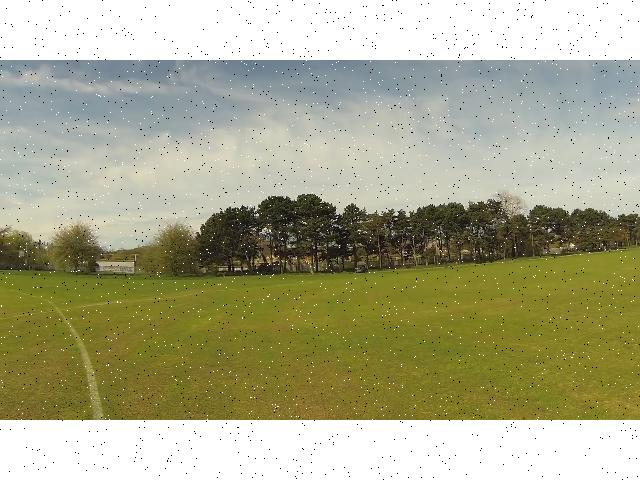Anti-Drone: (302, 141, 318, 149)
